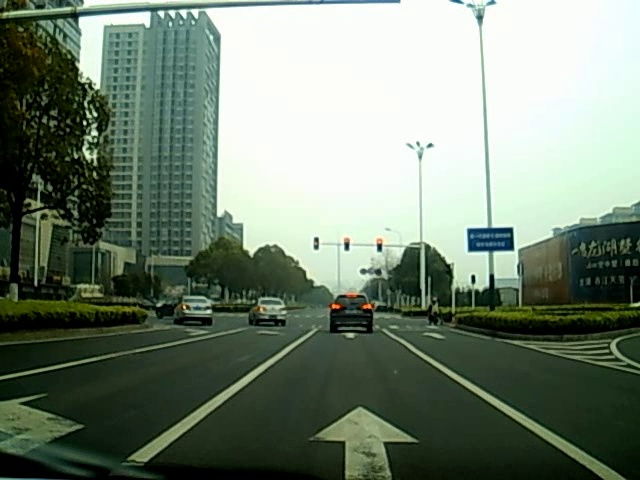Traffic_Light_stop: (375, 238, 383, 254), (344, 238, 352, 253)
